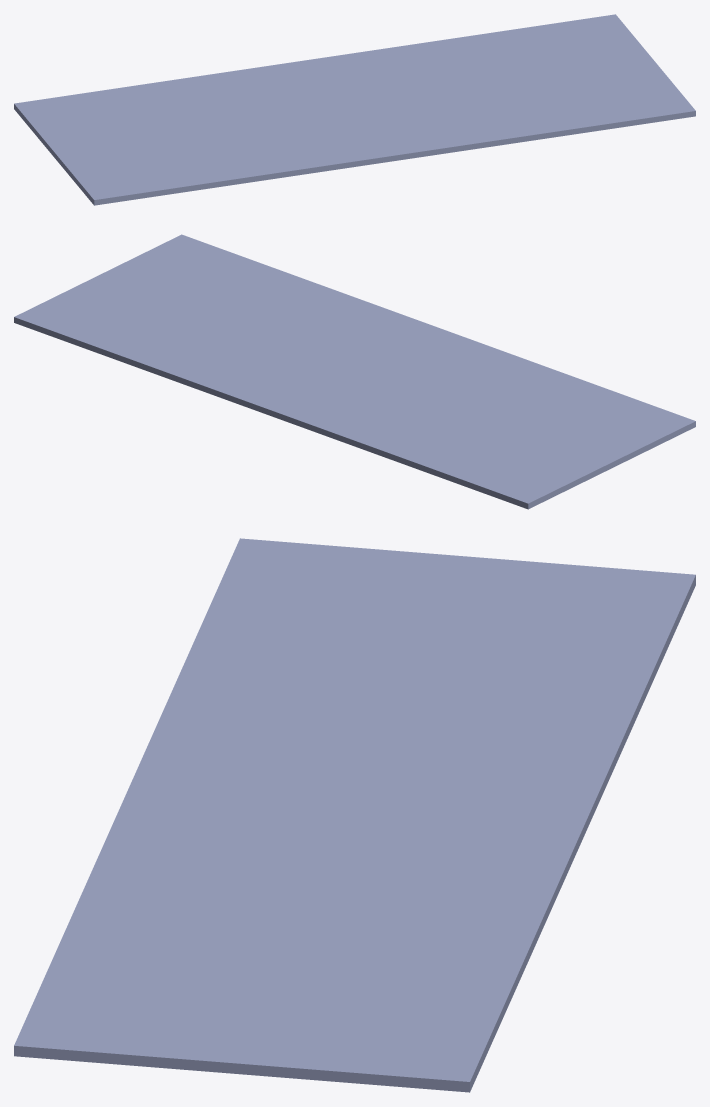
File: road.003_lev1.glb
The picture shows the model from 3 angles, top to bottom: view 1: azimuth 30°, elevation 25°; view 2: azimuth 150°, elevation 25°; view 3: azimuth 270°, elevation 25°; orthographic projection. The views are drawn at different scales.
Parts seen in each view (by area): view 1: road.003_lev1; view 2: road.003_lev1; view 3: road.003_lev1.
Part boxes in pixels (<box>): road.003_lev1: <box>14,14,695,205</box>; road.003_lev1: <box>14,234,695,509</box>; road.003_lev1: <box>14,538,695,1092</box>.
Bounding box in the file's own units: 13 × 0.1172 × 6.89.
1 material, 1 textured.
